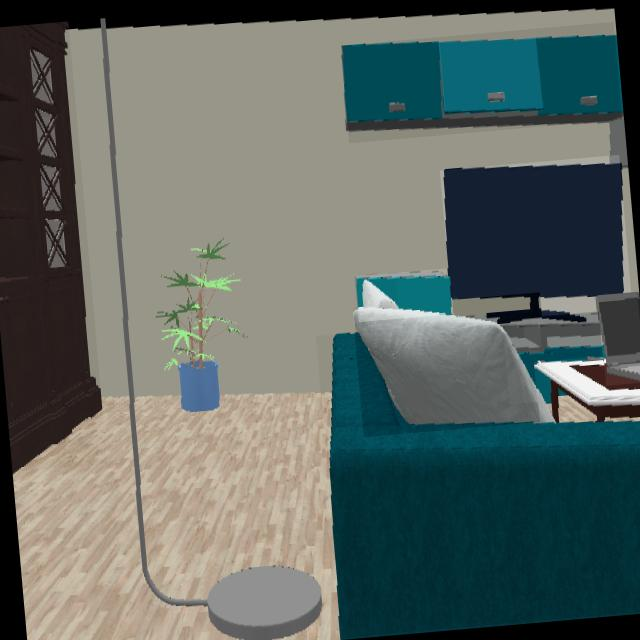bookshelf: (0, 21, 102, 471)
cabinet: (343, 35, 622, 130), (502, 314, 602, 400), (355, 273, 451, 313)
laptop: (598, 293, 640, 381)
monitor: (445, 165, 624, 324)
pillow: (353, 308, 550, 424), (364, 281, 398, 309)
sofa: (330, 333, 640, 637)
table: (535, 359, 640, 420)
